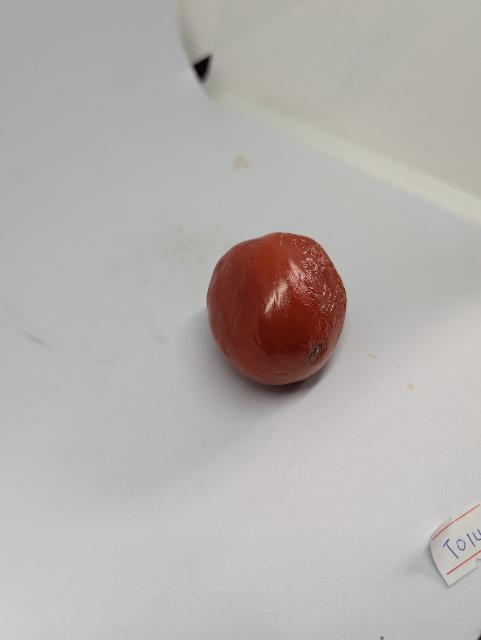defect: (203, 228, 351, 388)
